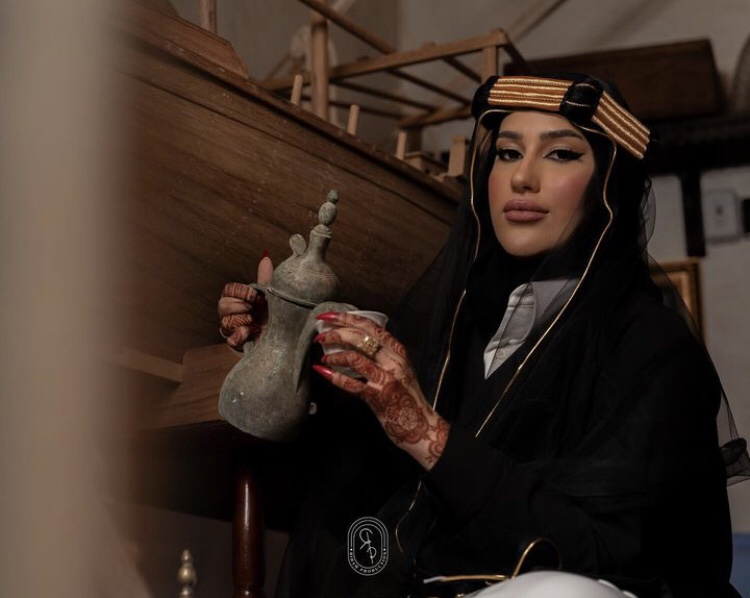Saudi_Founding_Day: (205, 65, 747, 598)
